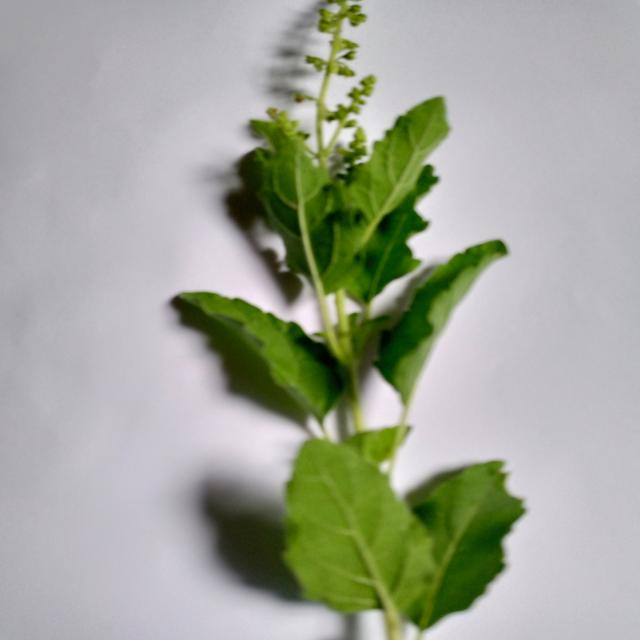tulsi: (179, 0, 528, 634)
